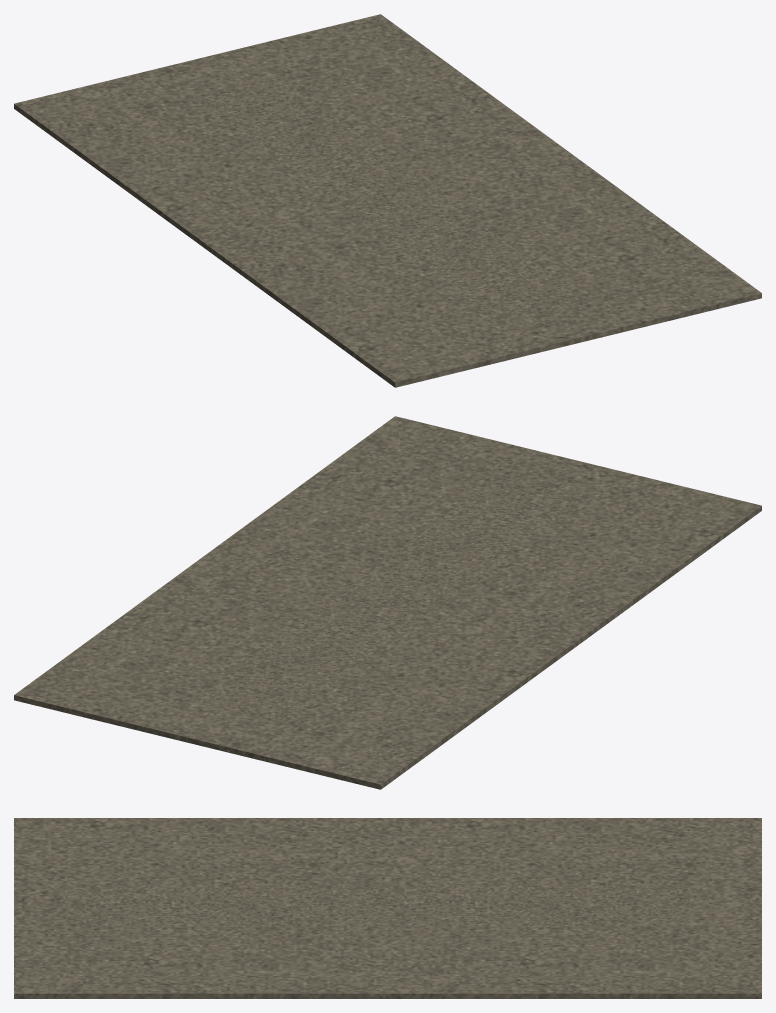
The model's file is carpet_4.fbx.
3 renders of one model, top to bottom at view 1: azimuth 30°, elevation 25°; view 2: azimuth 150°, elevation 25°; view 3: azimuth 270°, elevation 25°, orthographic.
Visible parts, largest first — view 1: polySurface538; view 2: polySurface538; view 3: polySurface538.
Part boxes in pixels (x1,y1,x2,y2): polySurface538: (14, 14, 761, 387); polySurface538: (14, 416, 761, 789); polySurface538: (14, 818, 761, 998).
Bounding box in the file's own units: 250 × 3.36 × 450.
